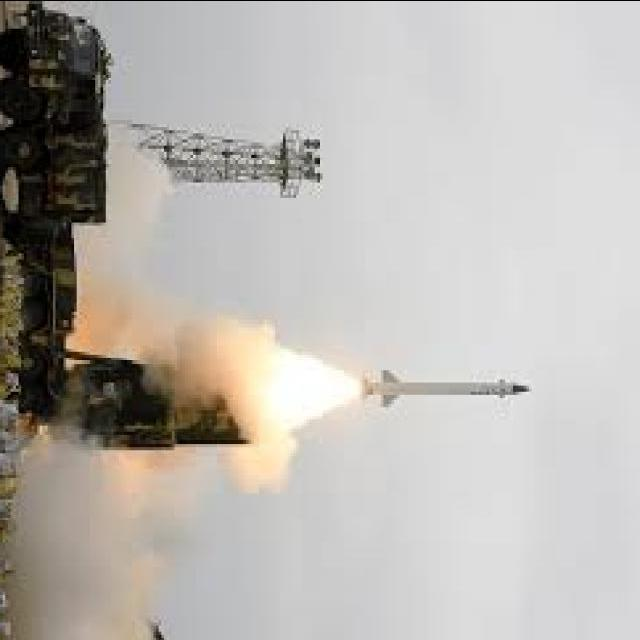Missile: (347, 366, 545, 411)
